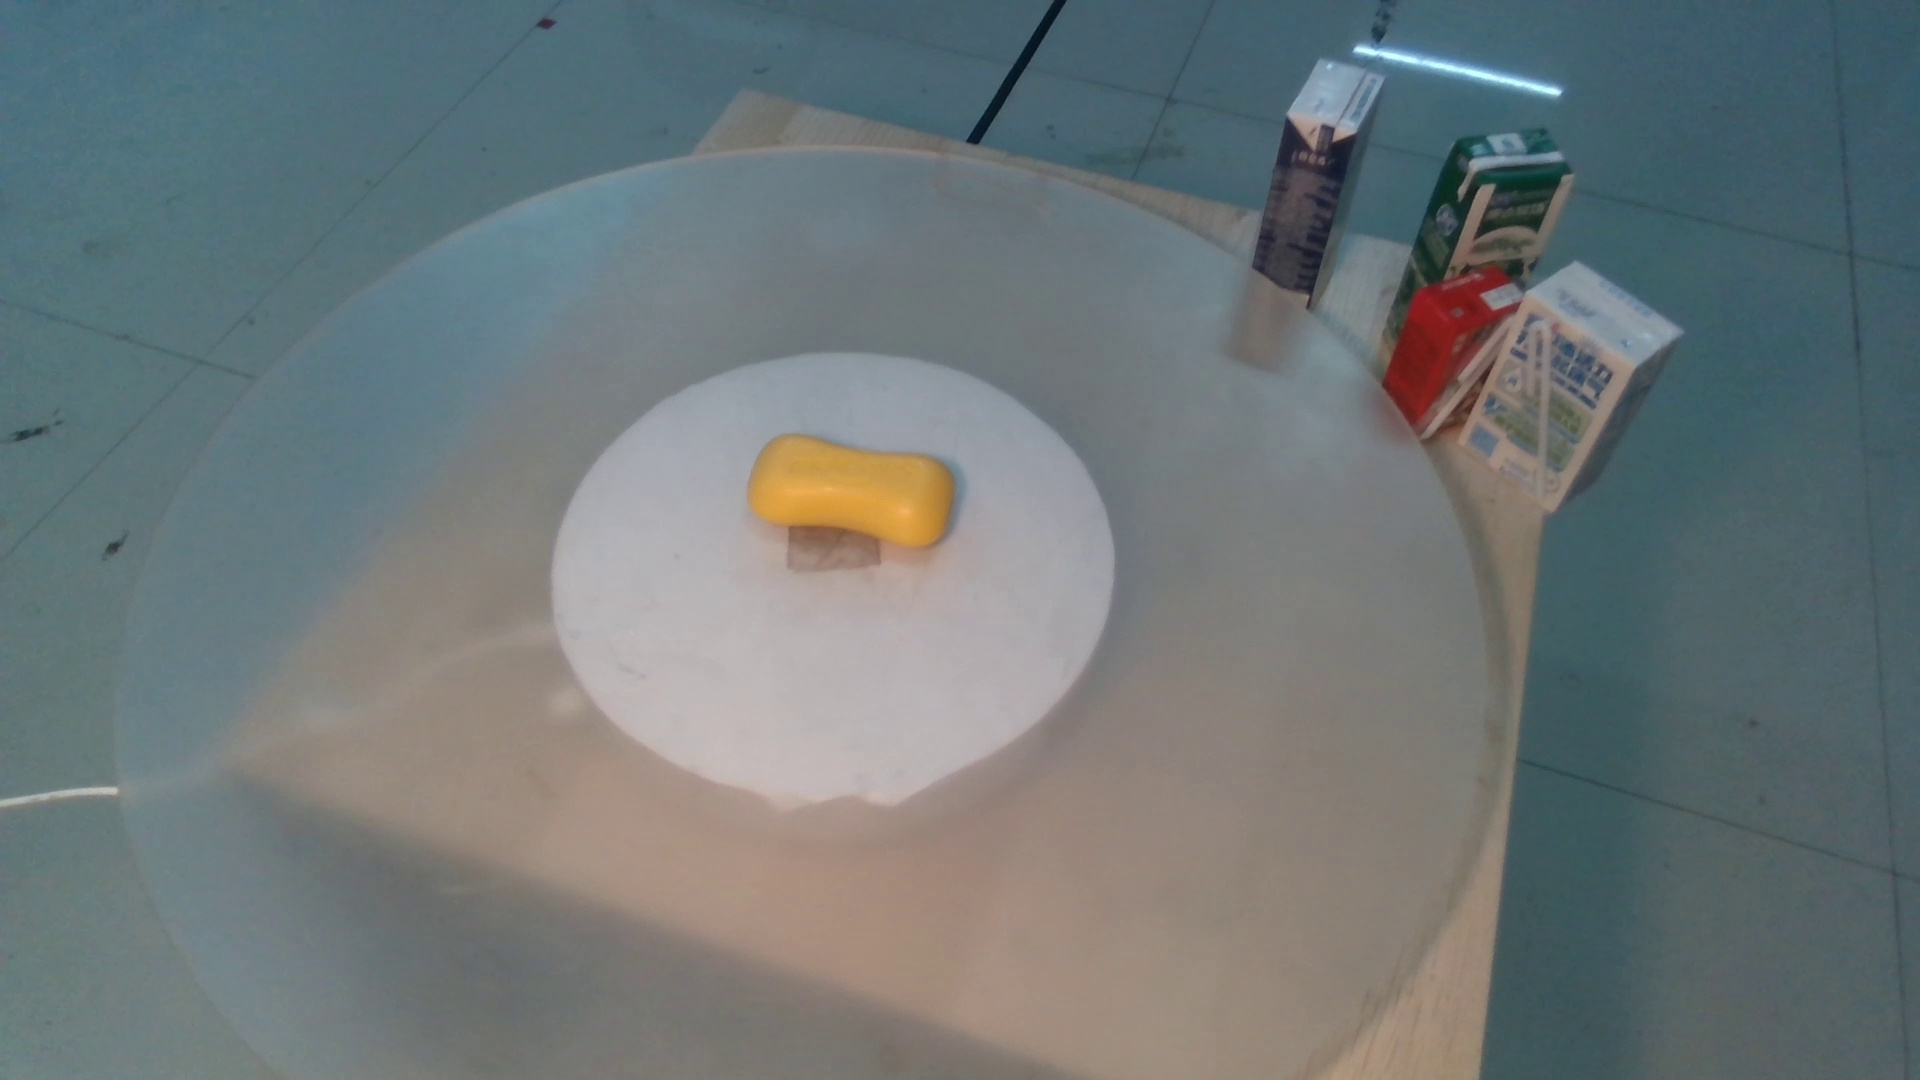CA003_1: (723, 400, 978, 597)
